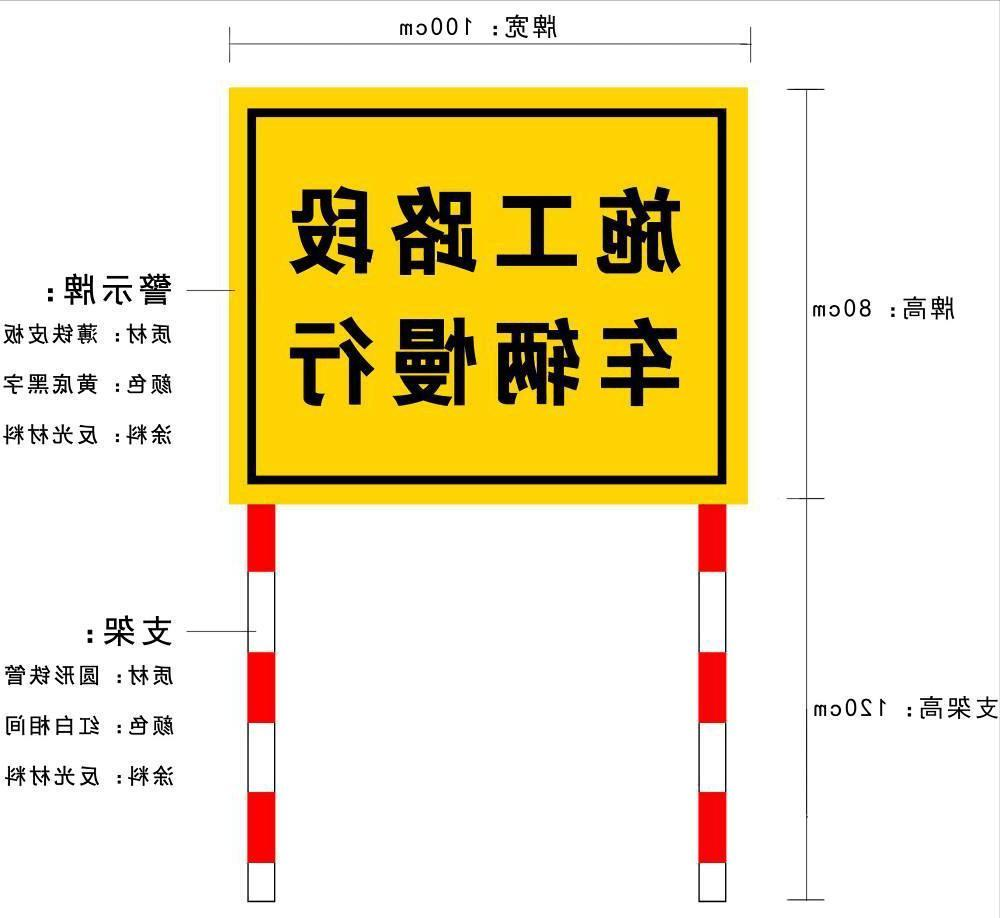sign: (237, 101, 737, 492)
